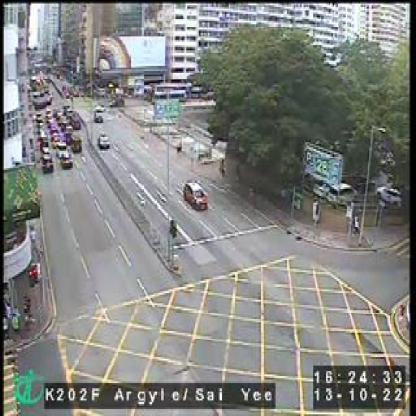Car: (183, 179, 210, 213), (327, 183, 358, 206), (375, 184, 404, 206), (70, 135, 82, 154), (57, 141, 70, 158), (98, 133, 110, 149), (61, 152, 73, 168), (42, 156, 51, 175), (93, 108, 104, 123), (71, 117, 83, 130), (42, 146, 52, 158)
